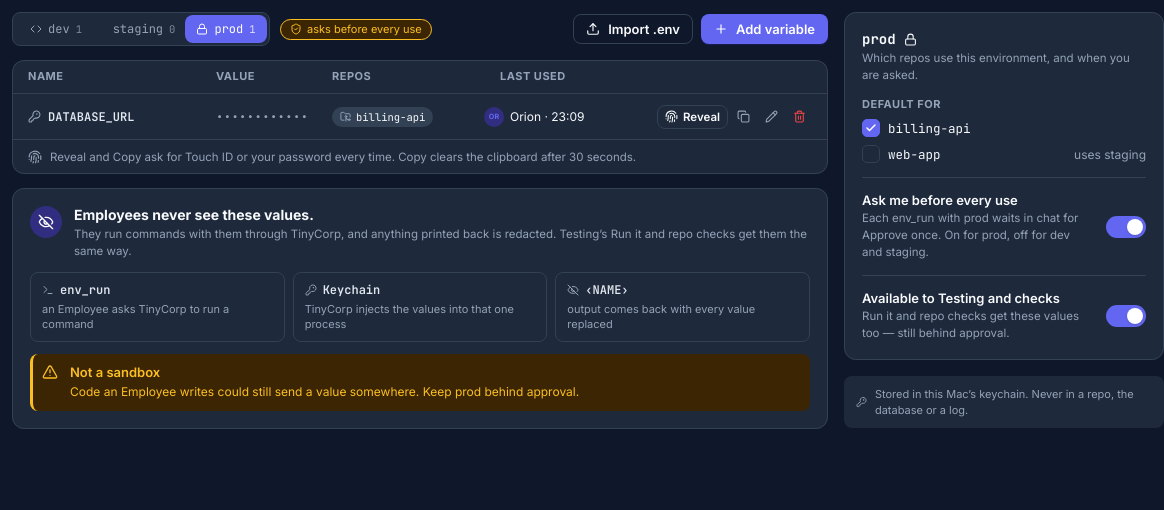
The Environments tab › copies through the main process, and says the clipboard clears itself
Click the button named "Copy DATABASE_URL" at (743, 116), box [730, 104, 756, 130]
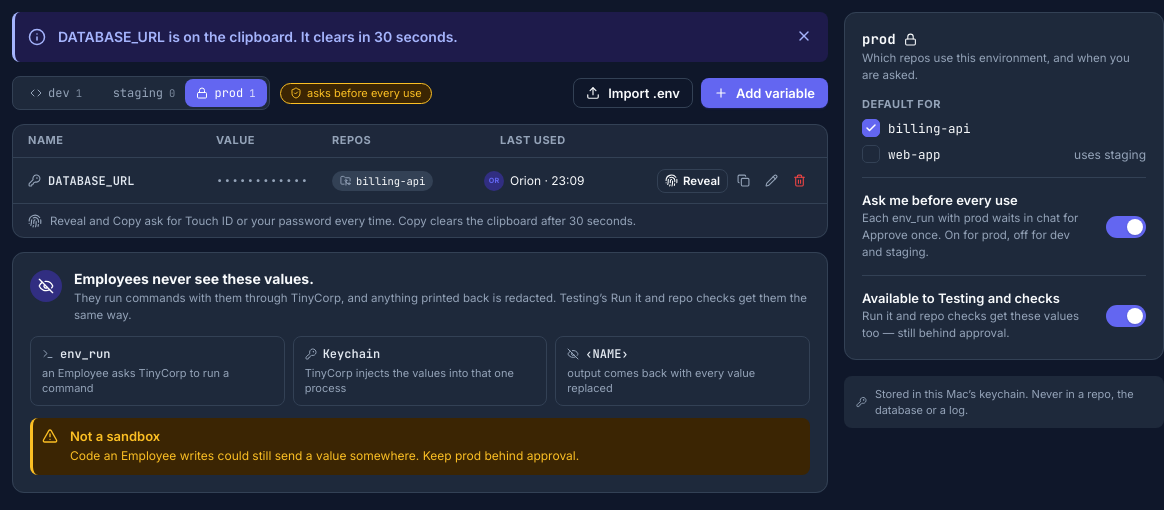
Check: the text "clears in 30 seconds" is shown, box [58, 28, 458, 45]
